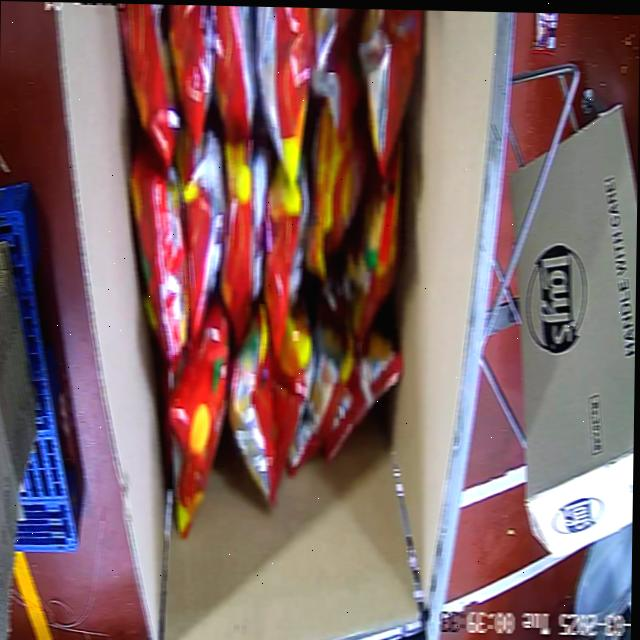MASALA: (106, 3, 424, 543)
